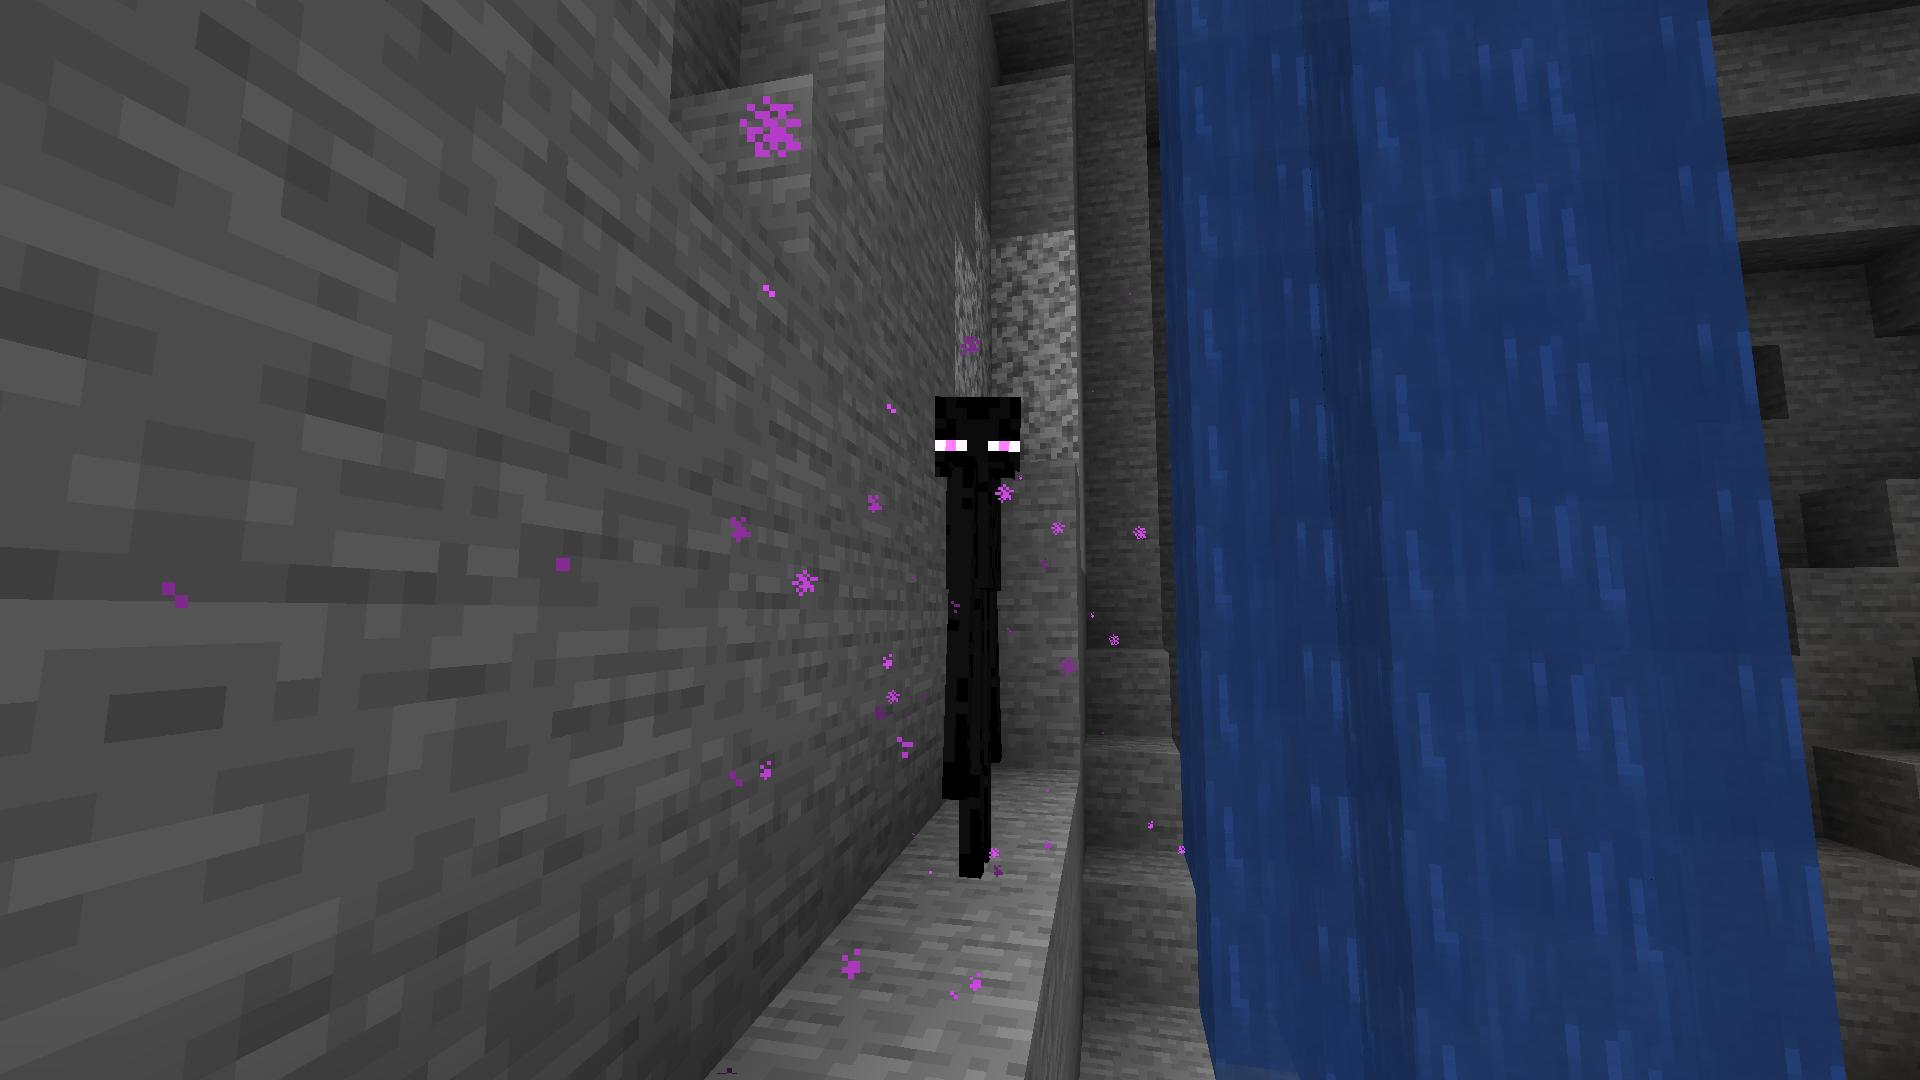enderman: (931, 382, 1030, 897)
